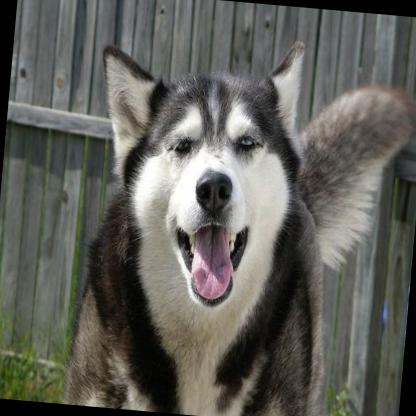Eskimo_dog: (57, 22, 416, 416)
